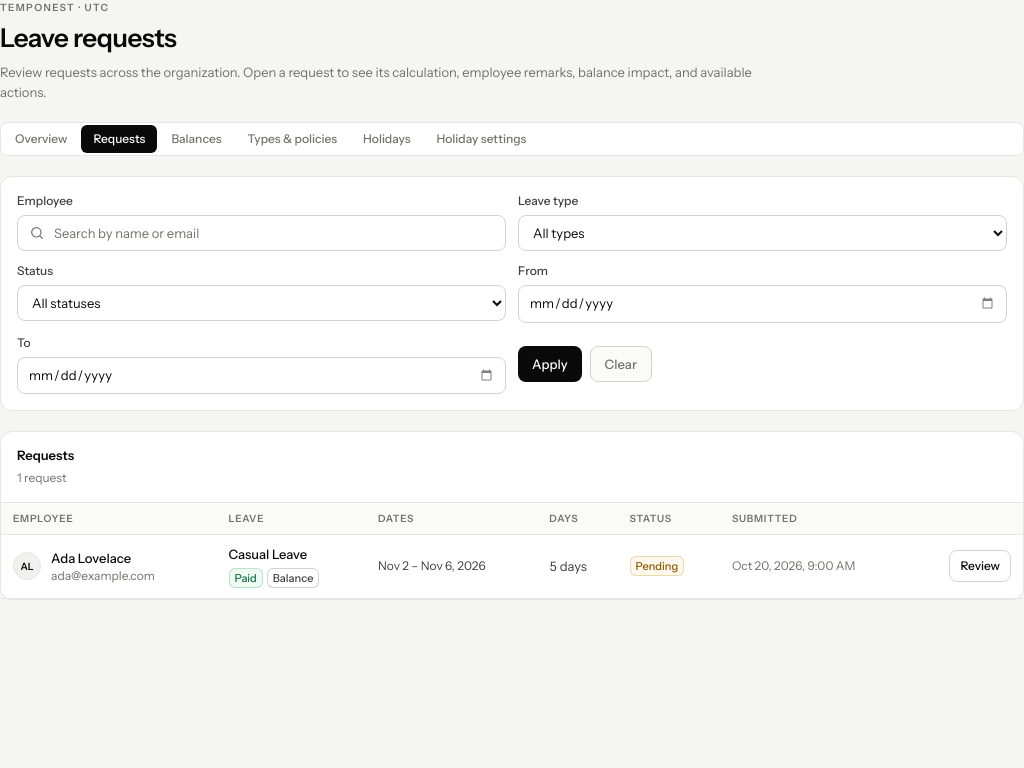
it: LeaveRequestsView › requires a rejection reason before submitting
Expected: the table is shown, left=1, top=502, right=1023, bottom=599
Click the button "Review".
click(980, 566)  # box left=950, top=550, right=1011, bottom=582
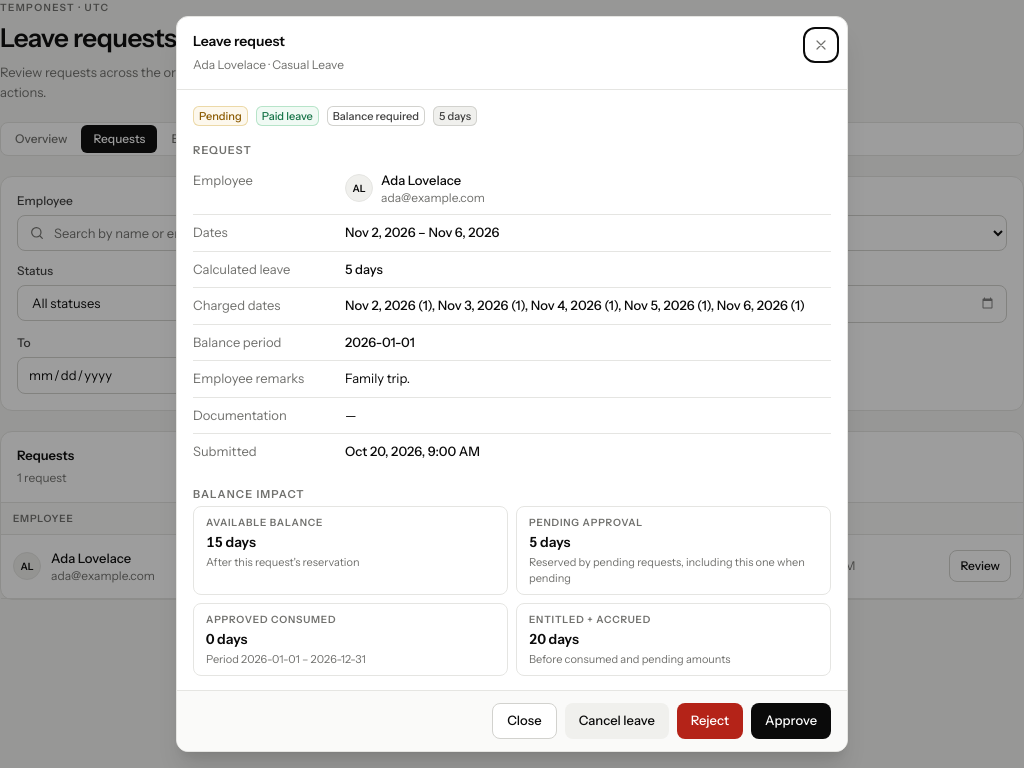
Expected: the heading "Leave request" is shown, left=193, top=32, right=285, bottom=50
Click the button "Reject".
click(710, 721)  # box left=677, top=703, right=743, bottom=739
(page scrolled)
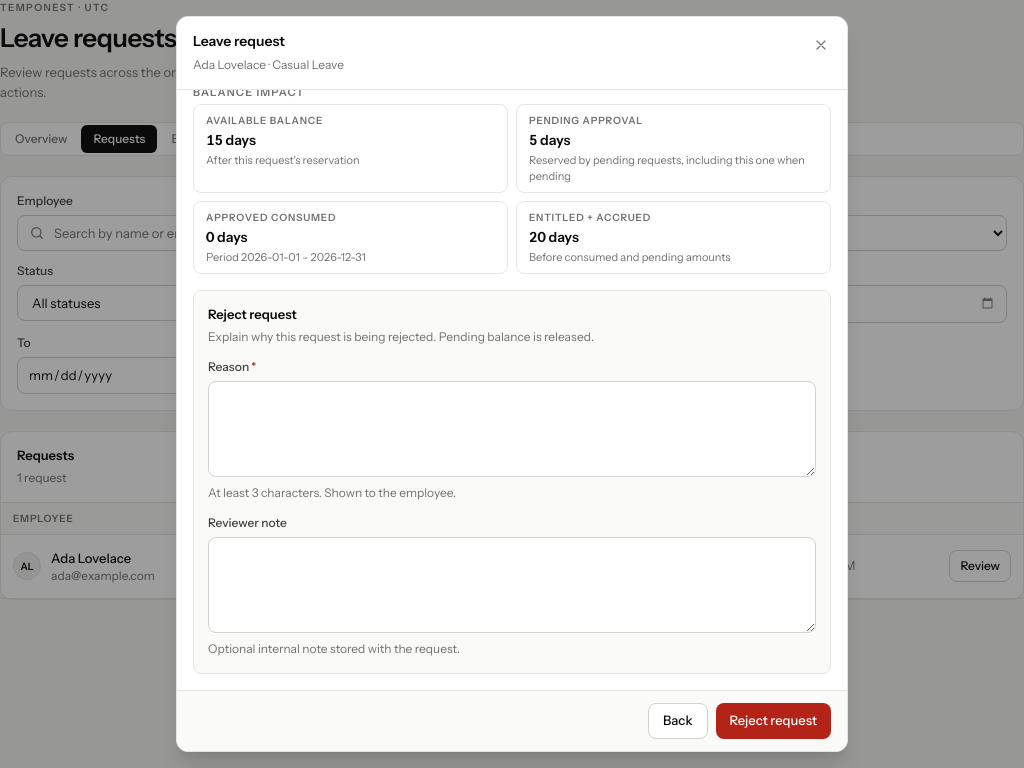
Type "no" into the text box labelled "Reason*".
click(512, 428); type("no")  # box left=208, top=380, right=816, bottom=476
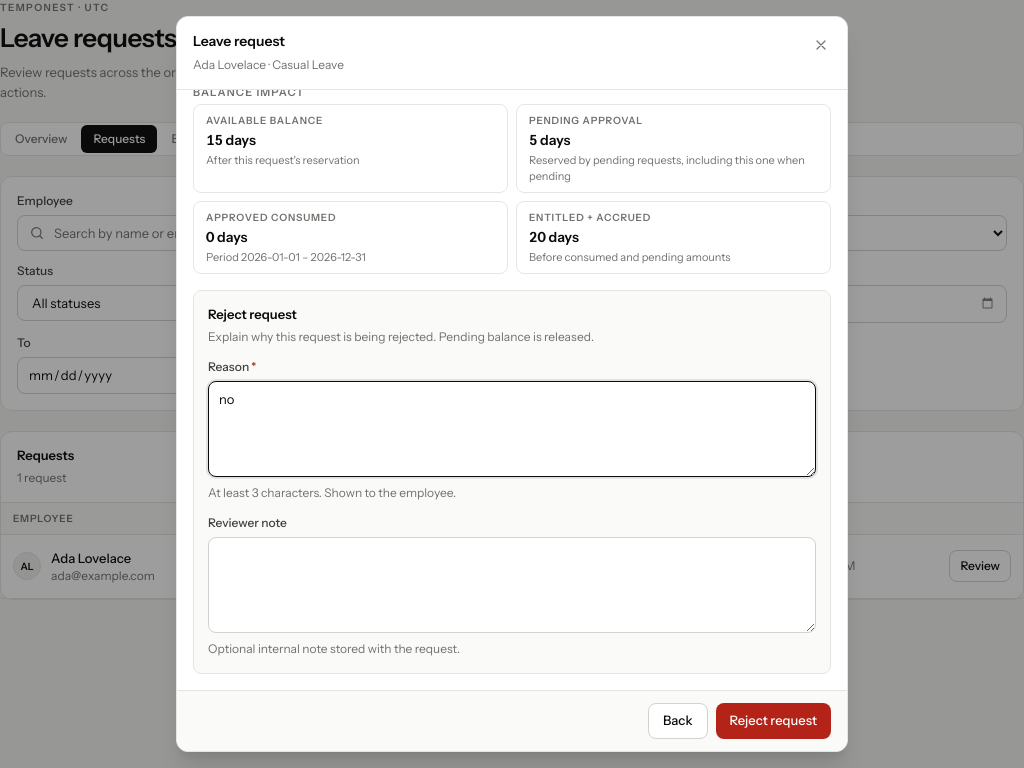
Click the button "Reject request".
click(773, 721)  # box left=716, top=703, right=831, bottom=739
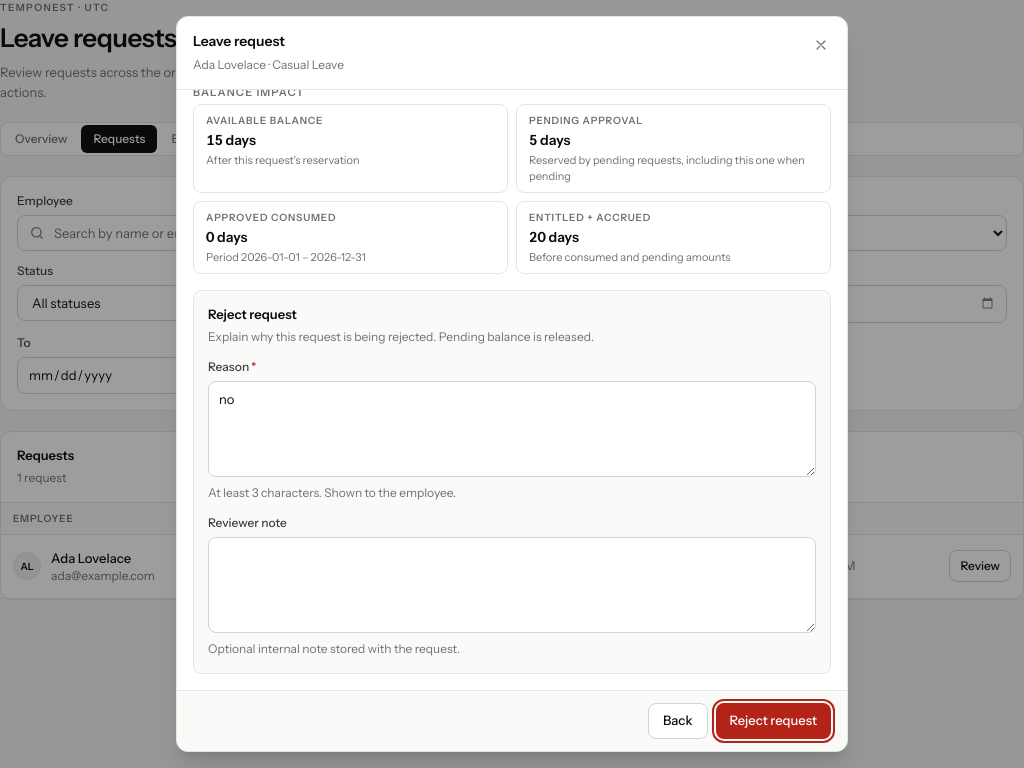
Replace the text in the text box labelled "Reason*" with "Staffing conflict." at (512, 428), box left=208, top=380, right=816, bottom=476
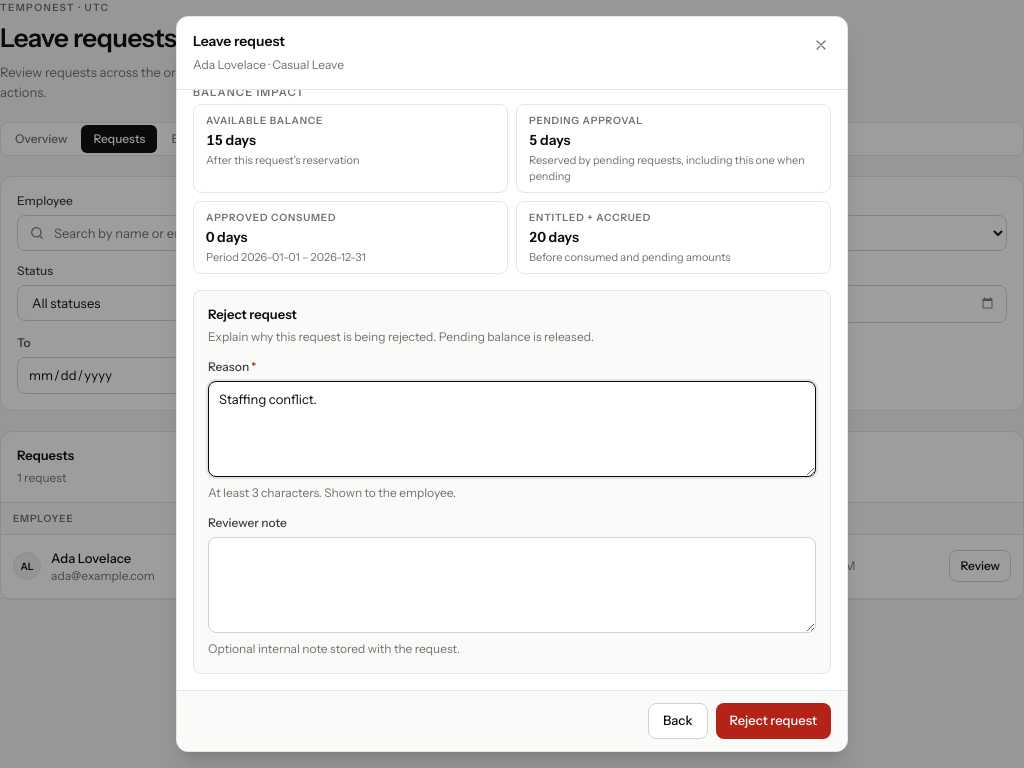
Click the button "Reject request".
click(773, 721)  # box left=716, top=703, right=831, bottom=739
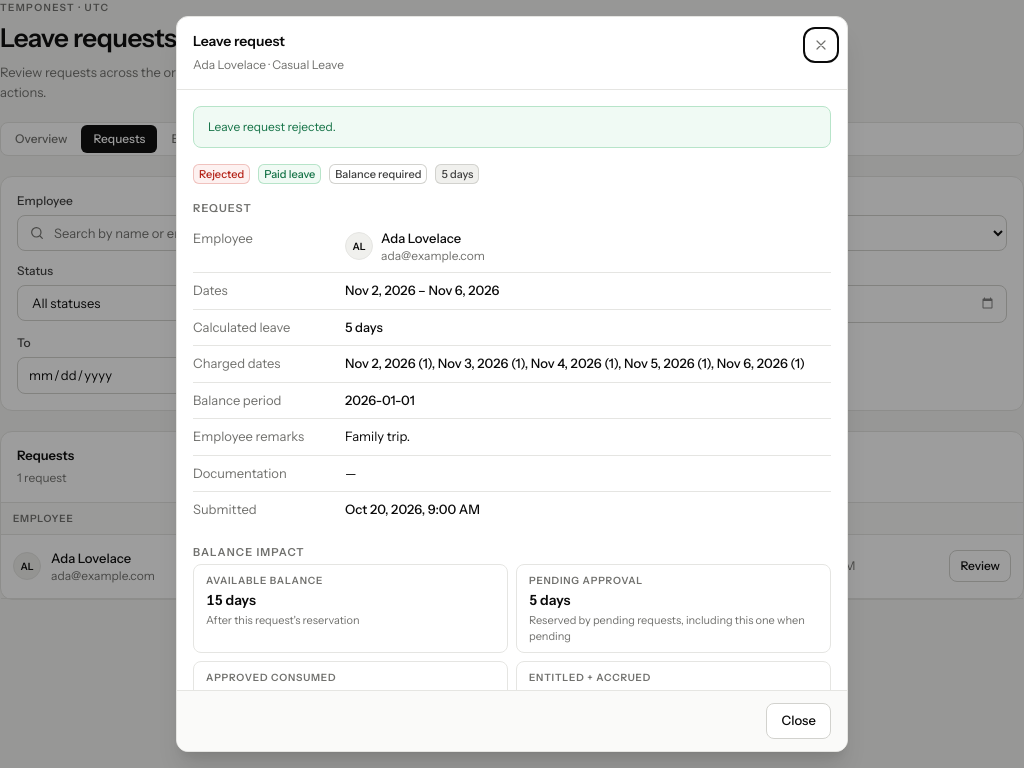
Expected: the text "Leave request rejected." is shown, left=208, top=119, right=336, bottom=134
